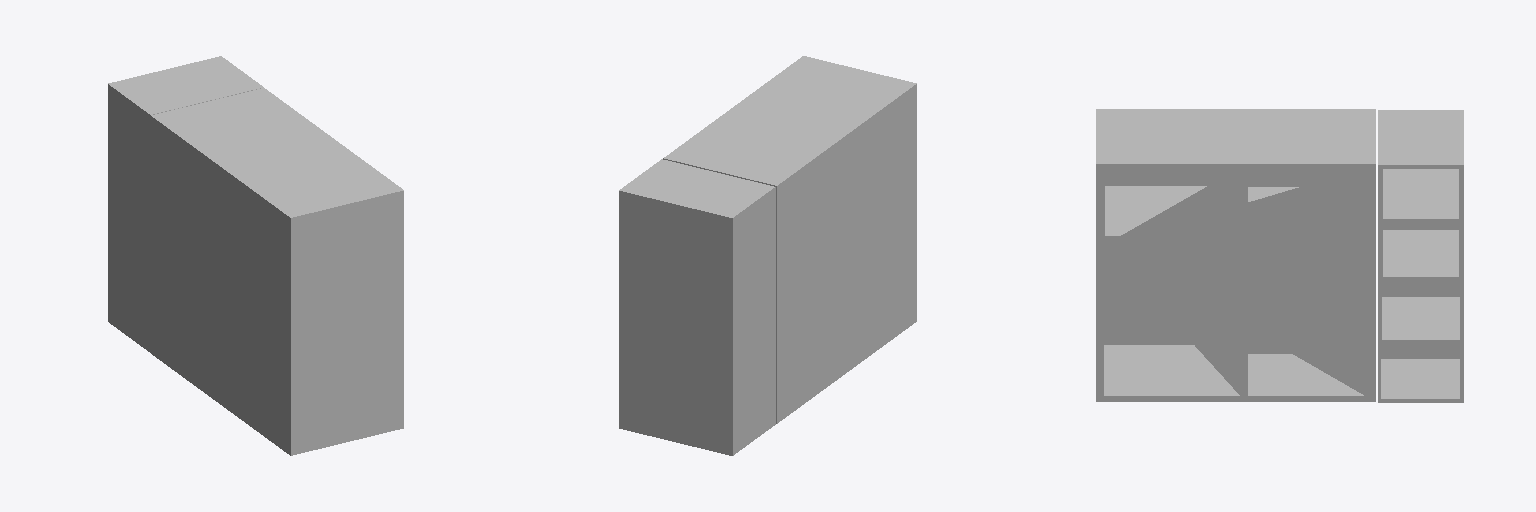
3 views of the same model, side by side, from view 1: azimuth 30°, elevation 25°; view 2: azimuth 150°, elevation 25°; view 3: azimuth 270°, elevation 25° (orthographic).
Visible parts, largest first — view 1: Cube, 立方体; view 2: Cube, 立方体; view 3: Cube, 立方体.
Boxes of the visible parts, x1,y1,x2,y2 form: Cube: [151, 88, 403, 455]; 立方体: [108, 56, 263, 352]; Cube: [663, 56, 916, 423]; 立方体: [619, 159, 775, 455]; Cube: [1096, 109, 1375, 401]; 立方体: [1378, 110, 1463, 402].
Size of the model in its own units: 2.01 by 4.01 by 5.6.